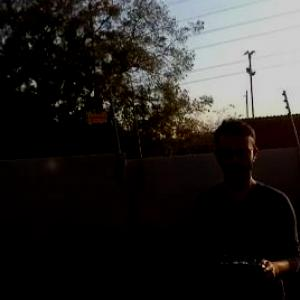follow: (188, 110, 300, 299)
